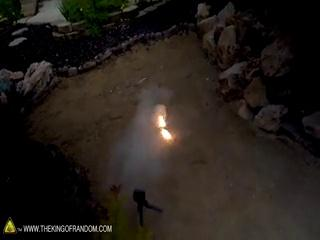Fire: (155, 110, 172, 142)
